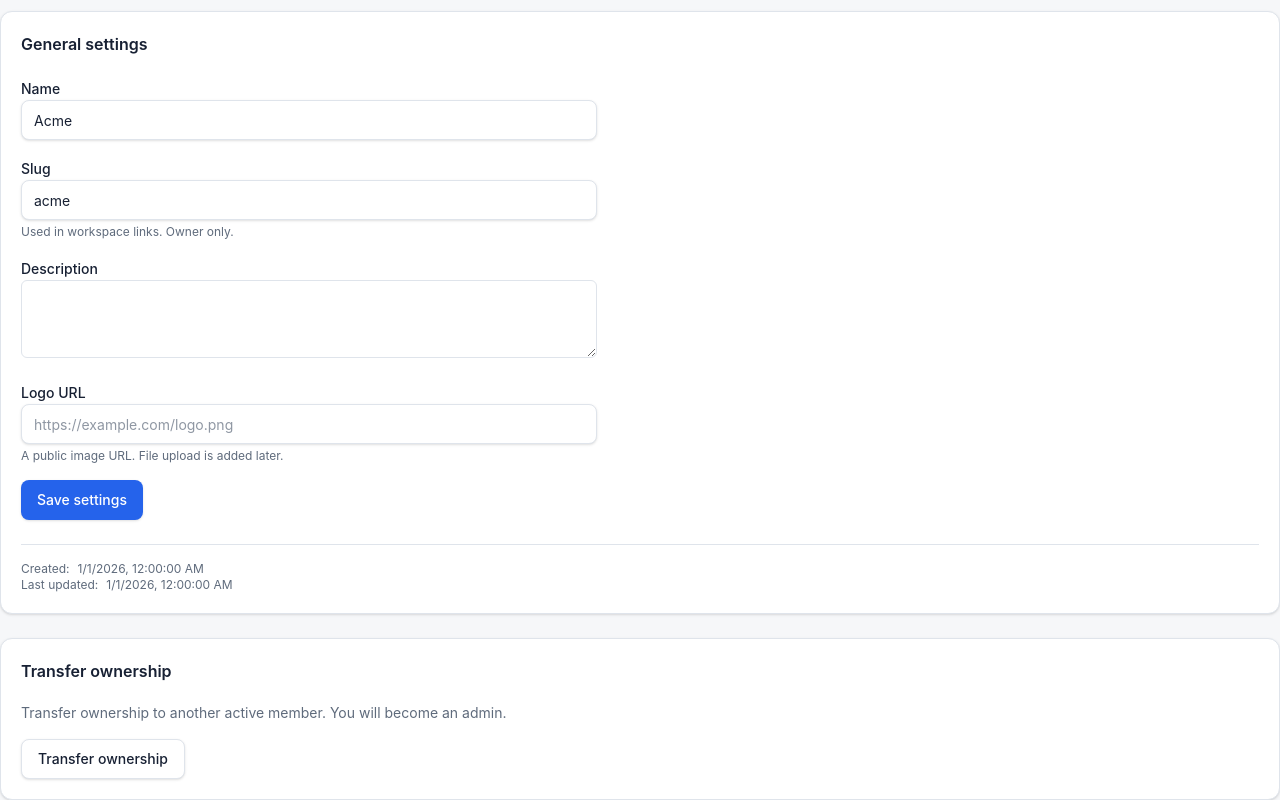
it: workspace settings page › requests a password before confirming ownership transfer
Later steps or results of the test are not shown.
(page scrolled)
Click the button "Transfer ownership" at (103, 759), box [21,739,185,779]
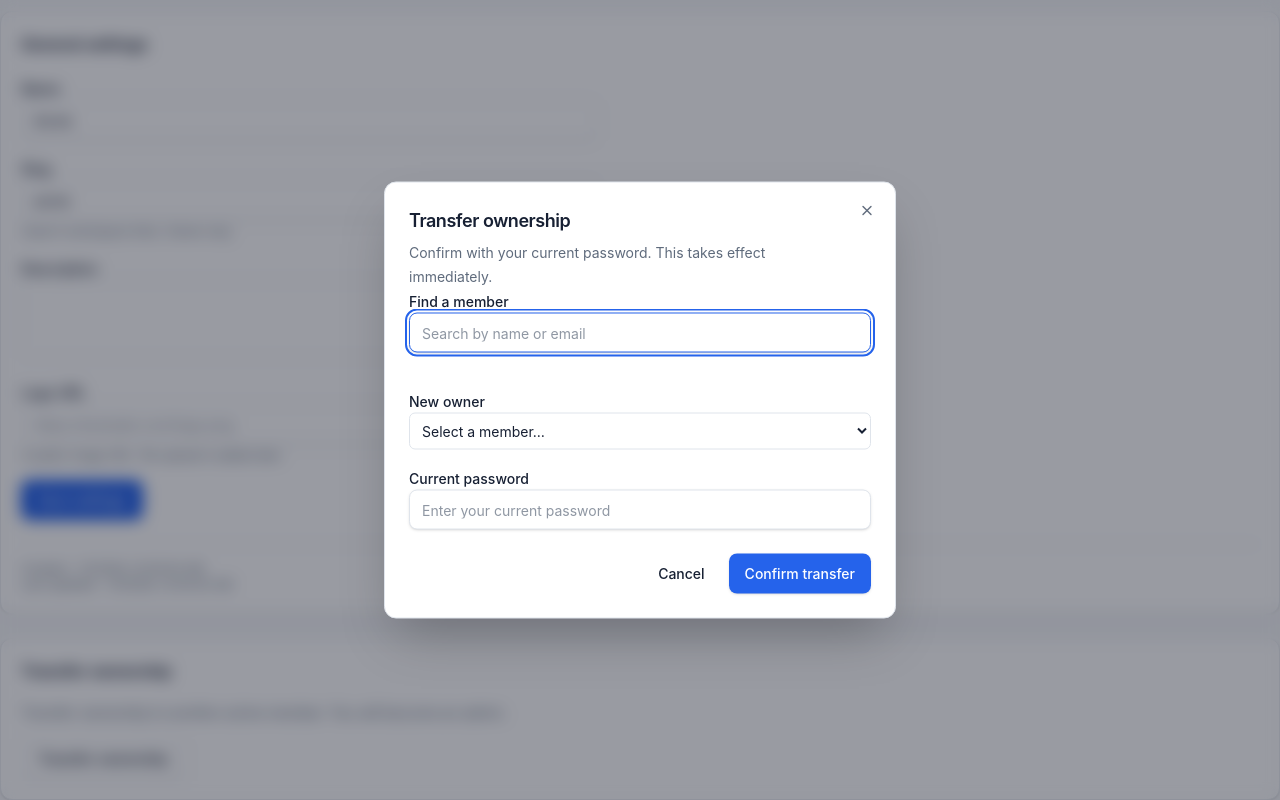
Result: the dialog is shown at [384,182,896,618]
